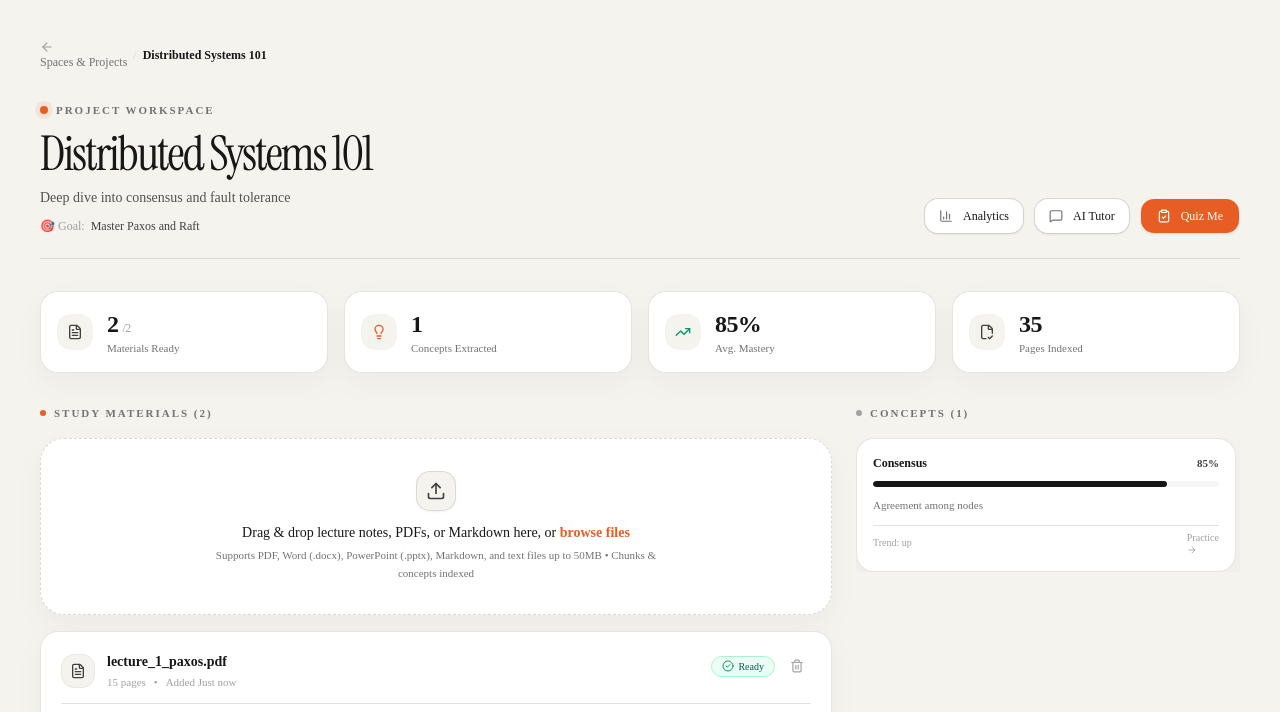
ProjectDetailContent — Real Component-Level Material Deletion Tests › 1. renders delete action button on material cards and clicking it opens confirmation dialog with filename
Note: Click Delete action
Click the button named "Delete lecture_1_paxos.pdf": (797, 666) [783,652,811,680]
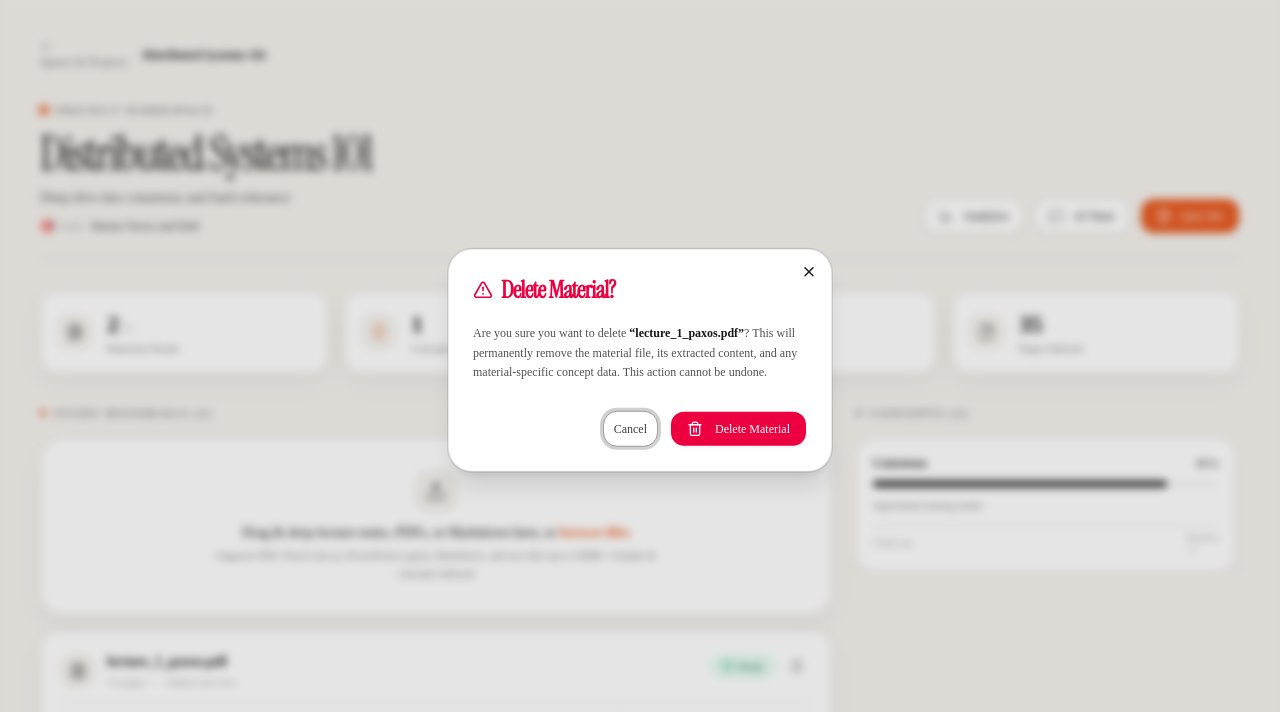
Expected: the heading "Delete Material?" is shown, [473,274,615,305]
Expected: the text "permanently remove the material file" is shown, [473,326,797,379]
